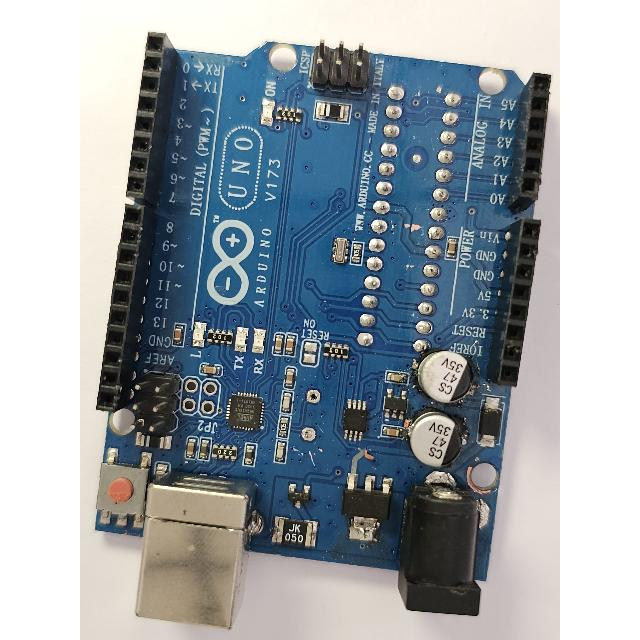missing_atmega: (351, 76, 466, 358)
missing_crystal_os: (291, 376, 333, 461)
